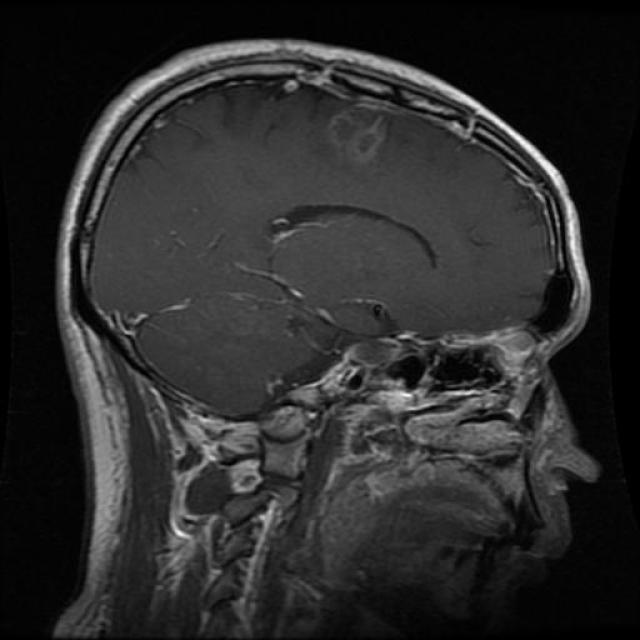glioma: (320, 95, 391, 171)
